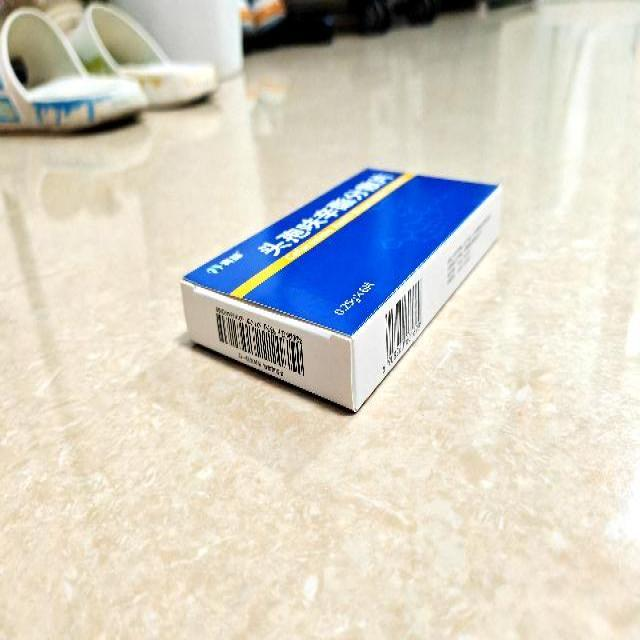box: (178, 165, 504, 416)
